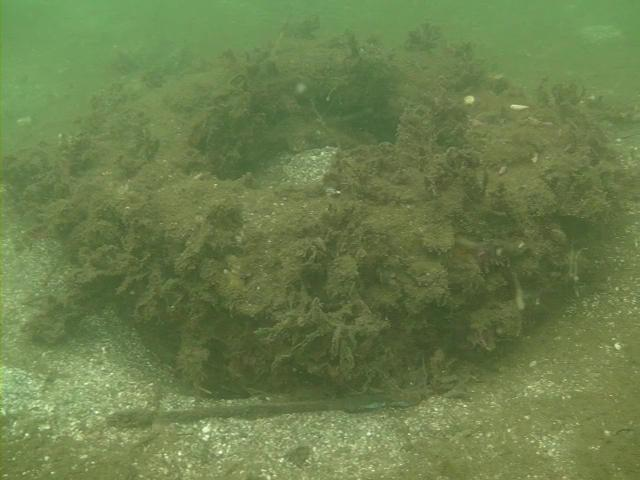tire: (54, 46, 616, 384)
